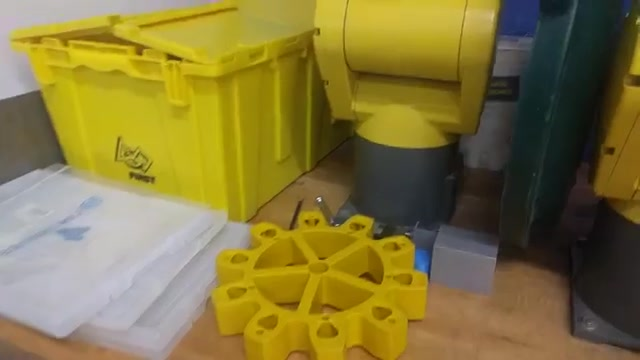gear: (209, 168, 431, 358)
